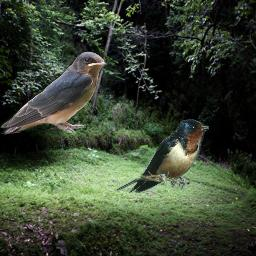Swallow: (0, 51, 108, 138), (115, 119, 209, 193)
